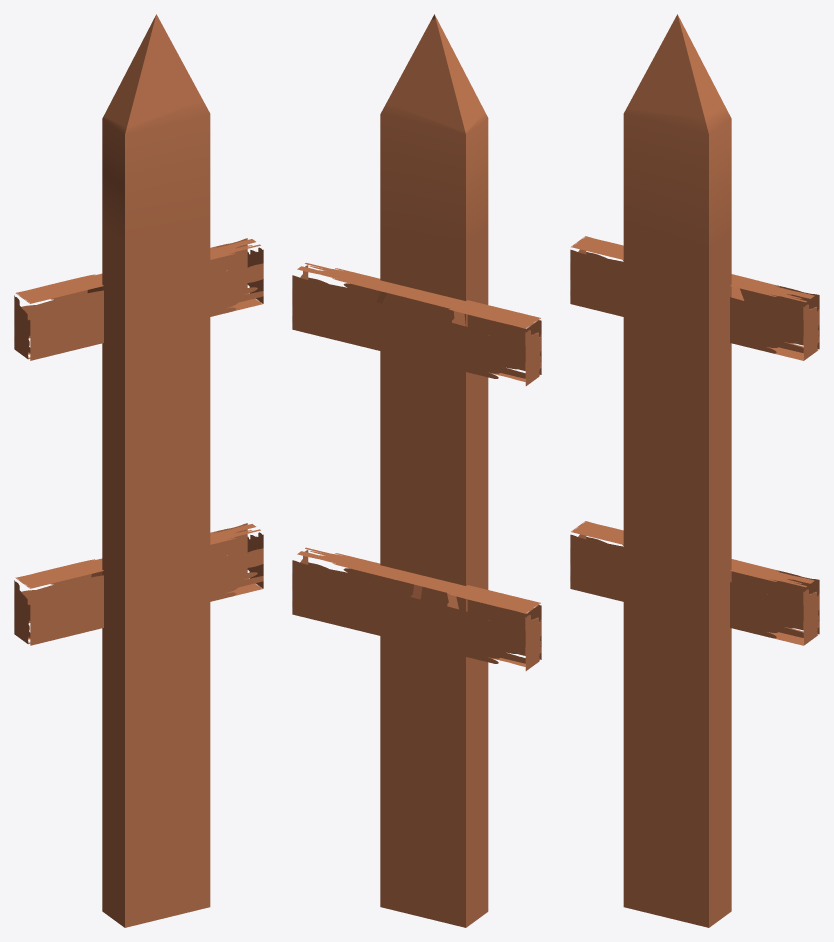
The model's file is mode_fence.FBX.
3 views of the same model, side by side, from view 1: azimuth 30°, elevation 25°; view 2: azimuth 150°, elevation 25°; view 3: azimuth 330°, elevation 25° (orthographic).
Parts seen in each view (by area): view 1: Box001_Part_4, Box001_Part_3, Box001_Part_8, Box001_Part_2, Box001_Part_5, Box003_Part_3, Box002_Part_1, Box001_Part_7, Box001_Part_6, Box002_Part_2, Box003_Part_1, Box001_Part_1; view 2: Box001_Part_4, Box001_Part_3, Box001_Part_8, Box001_Part_2, Box001_Part_5, Box003_Part_1, Box003_Part_3, Box002_Part_1, Box001_Part_7, Box002_Part_2, Box002_Part_3, Box001_Part_1 (+2 smaller); view 3: Box001_Part_4, Box001_Part_3, Box001_Part_2, Box001_Part_8, Box001_Part_5, Box001_Part_6, Box003_Part_1, Box002_Part_2, Box001_Part_7, Box001_Part_1, Box003_Part_3, Box002_Part_1.
Part boxes in pixels (x1=…): Box001_Part_4: x1=102, y1=225, x2=210, y2=451; Box001_Part_3: x1=102, y1=435, x2=210, y2=652; Box001_Part_8: x1=102, y1=675, x2=210, y2=835; Box001_Part_2: x1=102, y1=99, x2=210, y2=241; Box001_Part_5: x1=102, y1=799, x2=210, y2=927; Box003_Part_3: x1=14, y1=559, x2=103, y2=645; Box002_Part_1: x1=14, y1=275, x2=103, y2=360; Box001_Part_7: x1=104, y1=14, x2=202, y2=127; Box001_Part_6: x1=102, y1=559, x2=210, y2=672; Box002_Part_2: x1=210, y1=238, x2=263, y2=316; Box003_Part_1: x1=210, y1=523, x2=263, y2=601; Box001_Part_1: x1=102, y1=643, x2=210, y2=693; Box001_Part_4: x1=380, y1=225, x2=488, y2=451; Box001_Part_3: x1=380, y1=436, x2=488, y2=658; Box001_Part_8: x1=380, y1=677, x2=488, y2=836; Box001_Part_2: x1=380, y1=103, x2=488, y2=241; Box001_Part_5: x1=380, y1=800, x2=488, y2=927; Box003_Part_1: x1=292, y1=547, x2=423, y2=641; Box003_Part_3: x1=447, y1=583, x2=541, y2=670; Box002_Part_1: x1=452, y1=300, x2=541, y2=385; Box001_Part_7: x1=386, y1=14, x2=484, y2=131; Box002_Part_2: x1=292, y1=263, x2=390, y2=344; Box002_Part_3: x1=355, y1=283, x2=465, y2=369; Box001_Part_1: x1=380, y1=637, x2=488, y2=691; Box001_Part_4: x1=623, y1=221, x2=731, y2=464; Box001_Part_3: x1=623, y1=431, x2=731, y2=630; Box001_Part_2: x1=623, y1=107, x2=731, y2=247; Box001_Part_8: x1=623, y1=673, x2=731, y2=819; Box001_Part_5: x1=623, y1=805, x2=731, y2=927; Box001_Part_6: x1=623, y1=570, x2=731, y2=663; Box003_Part_1: x1=730, y1=559, x2=819, y2=645; Box002_Part_2: x1=730, y1=274, x2=819, y2=360; Box001_Part_7: x1=627, y1=14, x2=725, y2=117; Box001_Part_1: x1=623, y1=641, x2=731, y2=712; Box003_Part_3: x1=570, y1=521, x2=623, y2=601; Box002_Part_1: x1=570, y1=236, x2=623, y2=316.
Size of the model in its own units: 30 by 110 by 8.15.
Materials: 2 (2 with a texture image).
